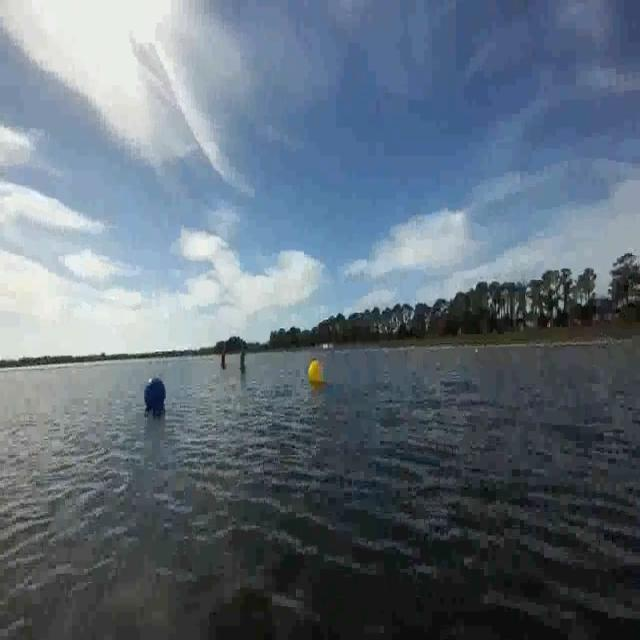blue-buoy: (144, 375, 166, 410)
green-column-buoy: (239, 345, 247, 370)
red-column-buoy: (219, 346, 228, 370)
yellow-buoy: (306, 358, 322, 384)
